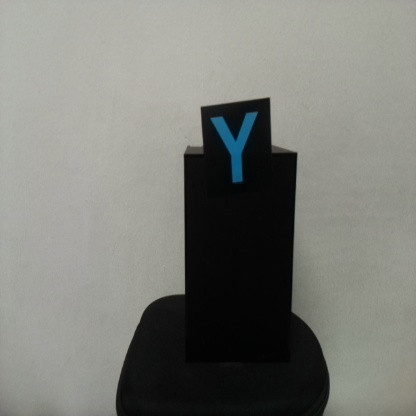id_14: (200, 107, 273, 196)
